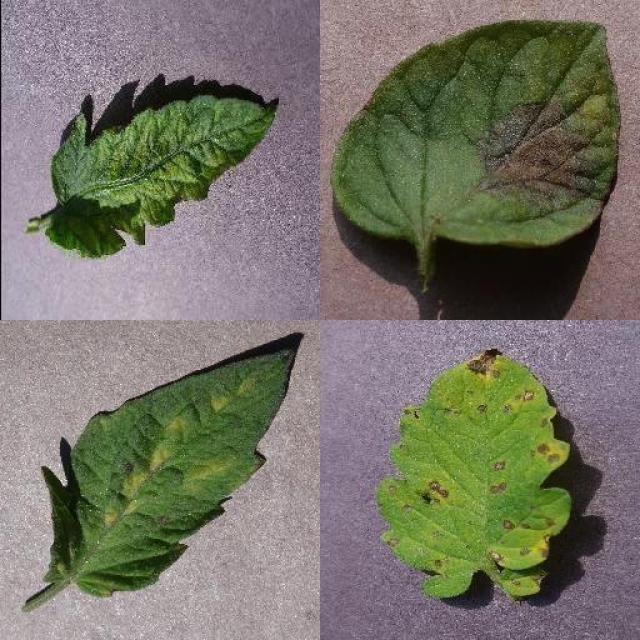Late Blight: (329, 18, 621, 250)
Septoria: (377, 348, 572, 600)
